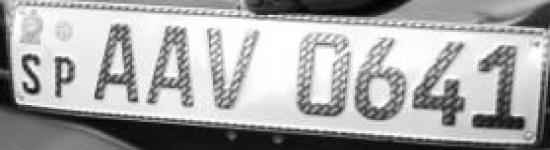0: (291, 29, 354, 121)
1: (470, 42, 531, 134)
4: (411, 34, 471, 132)
6: (356, 34, 412, 129)
A: (145, 22, 201, 113), (91, 19, 146, 106)
P: (48, 53, 84, 99)
S: (18, 50, 46, 97)
V: (204, 22, 268, 116)
